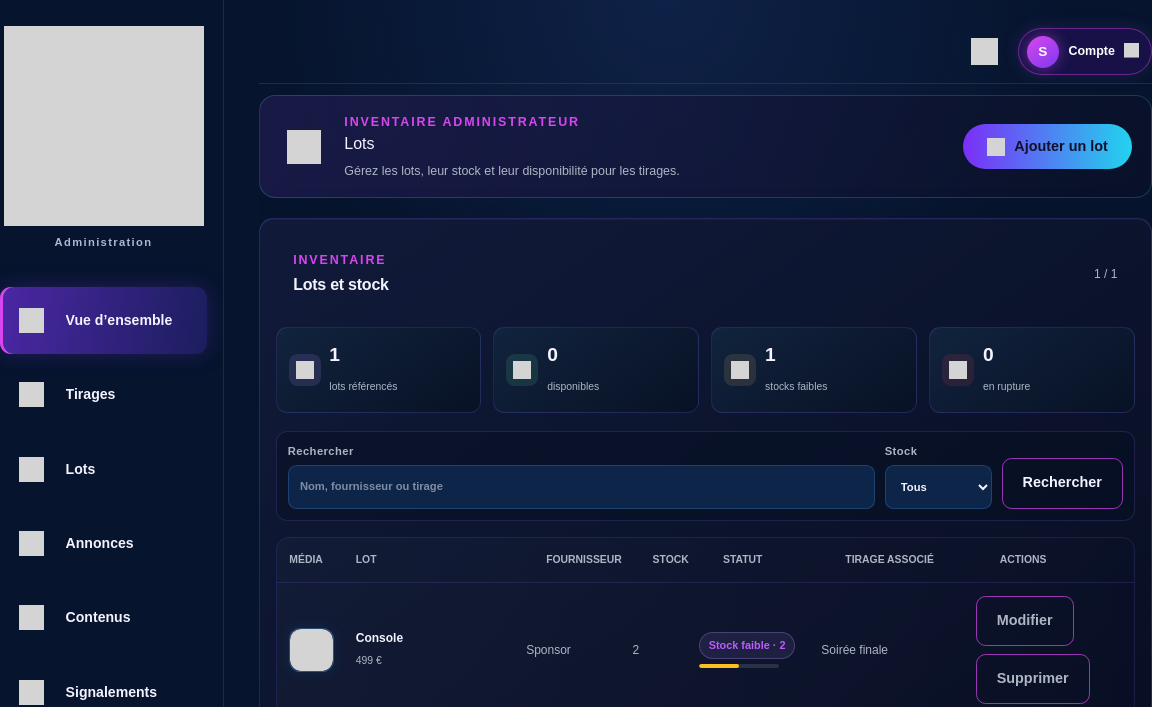
Test: modifie un lot via le contrat administrateur depuis le panneau d’édition
The image size is (1152, 707).
Step 1. Click the button "Modifier" → click(1025, 621), box [976,596,1074,646]
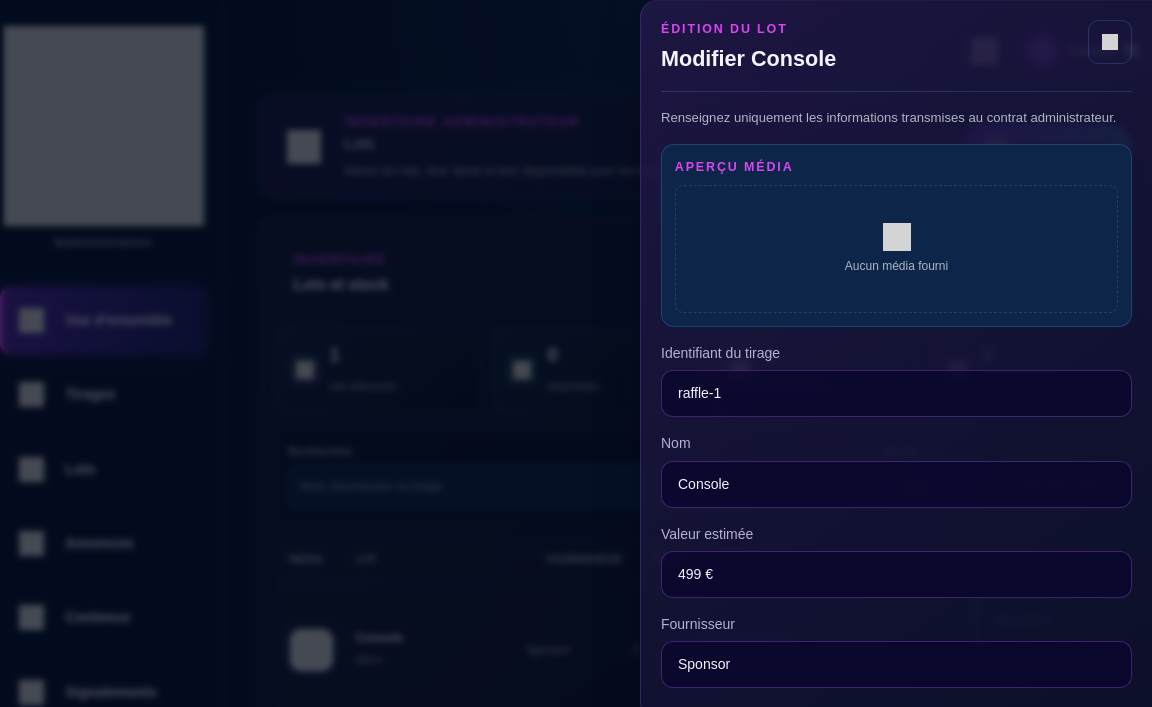
Step 2. Replace the text in the field labelled "Nom" with "Console Pro" → (896, 484), box [661,461,1132,508]
(page scrolled)
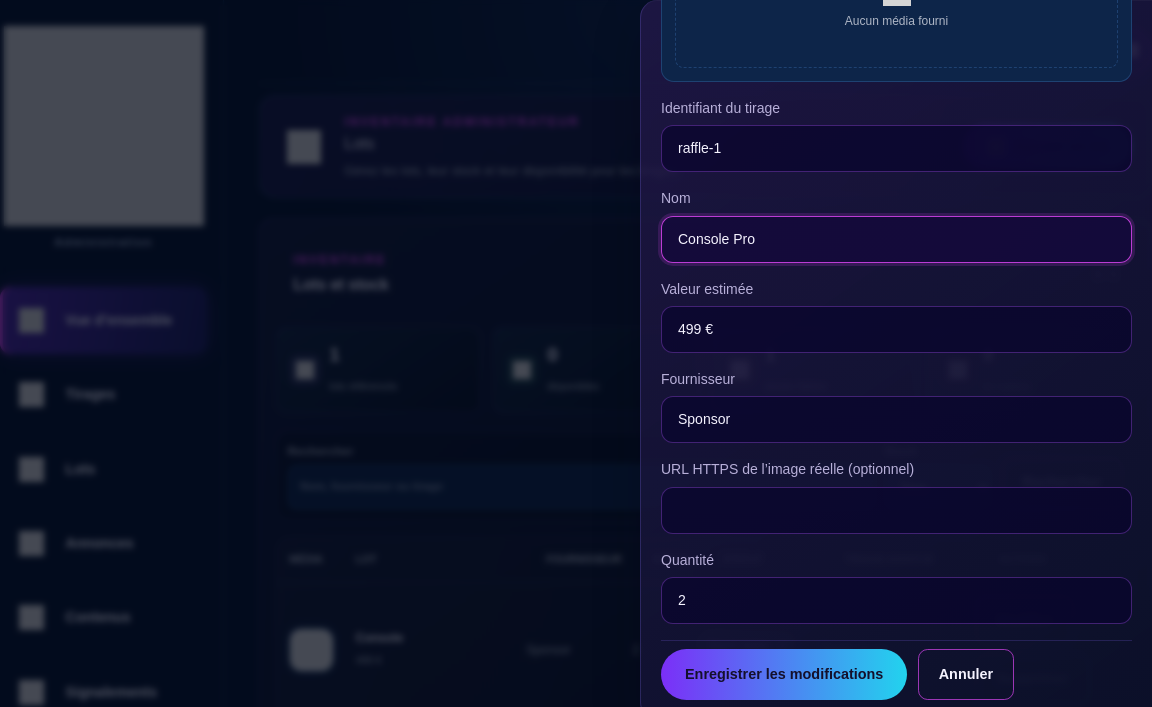
Step 3. Click the button "Enregistrer les modifications" → click(784, 675), box [661,649,907,700]
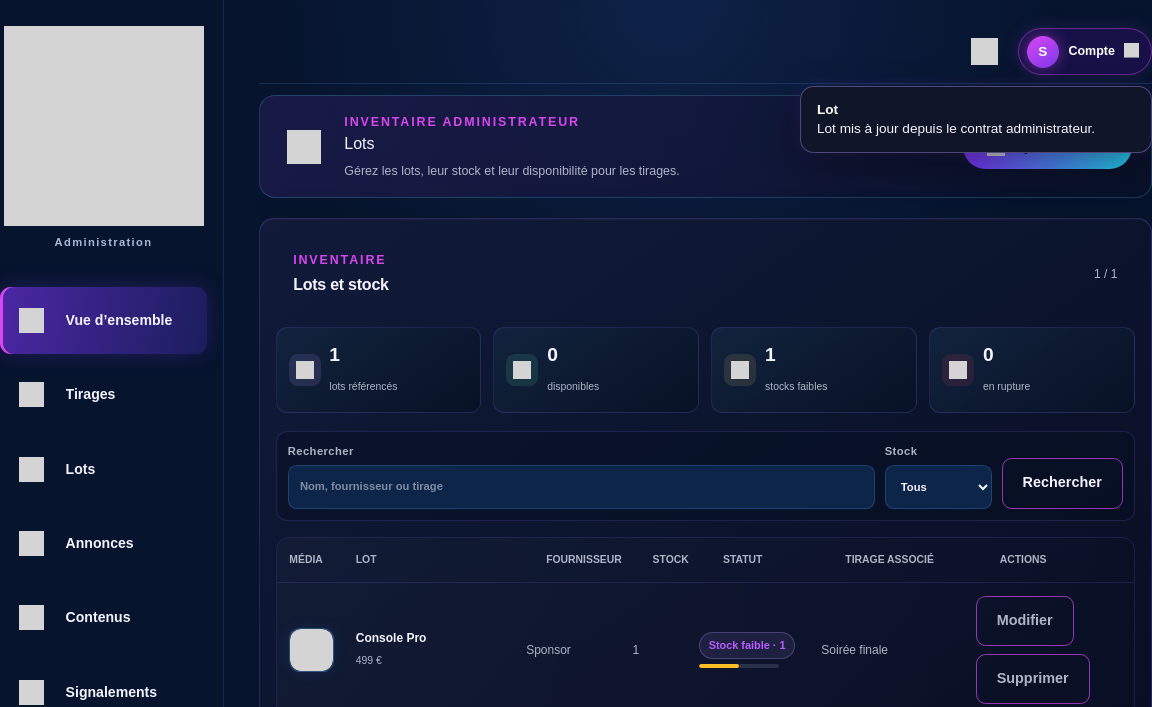
expect the text "Lot mis à jour" is shown: met, box [817,121,1095,136]
